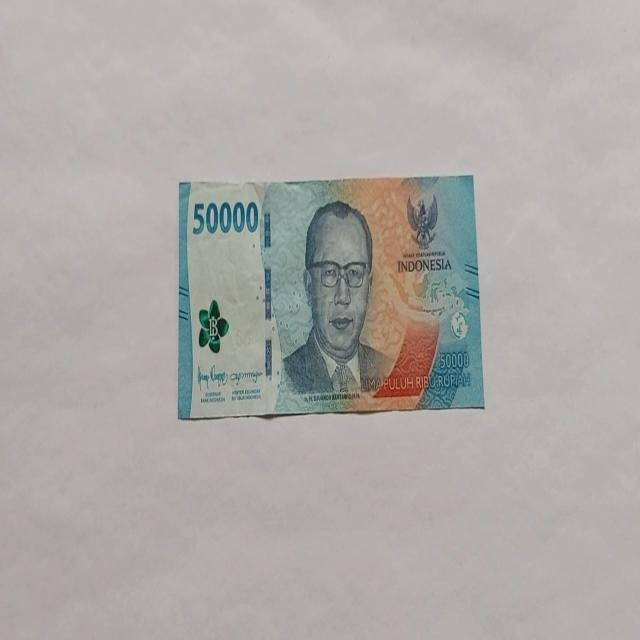lima puluh ribu rupiah: (177, 174, 485, 420), (278, 198, 396, 402)
